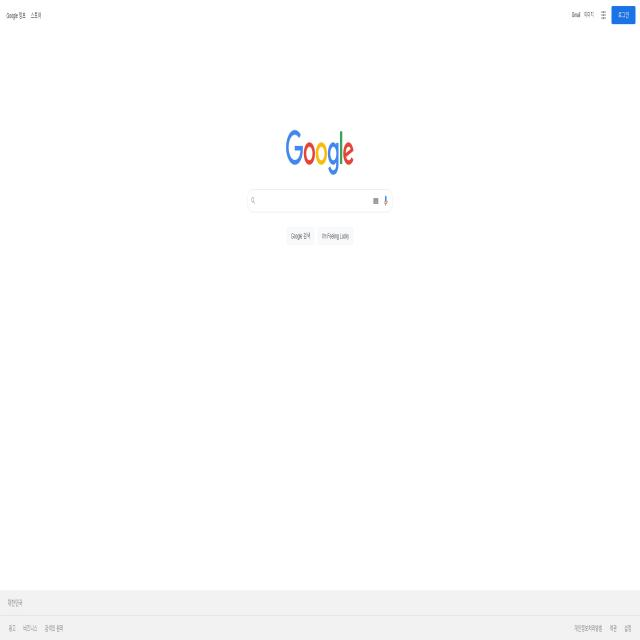menu-bar: (568, 4, 638, 24)
search: (246, 185, 396, 219)
